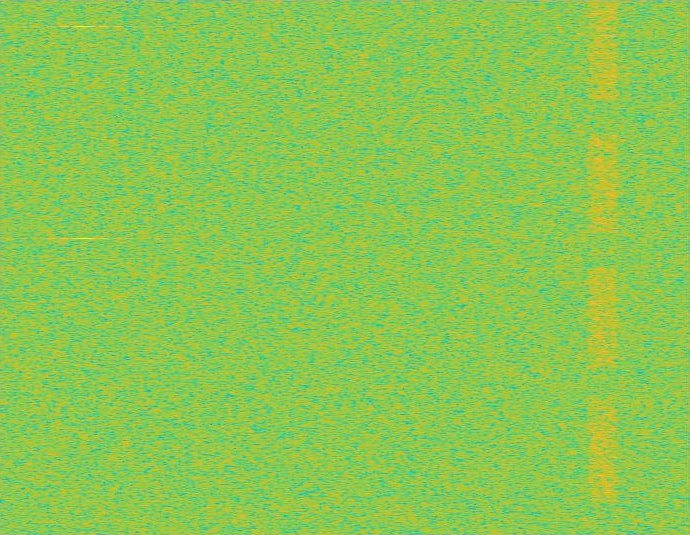5G: (586, 0, 620, 534)
Radar: (77, 0, 91, 534)
